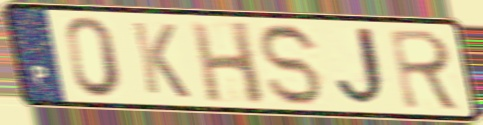0: (63, 15, 125, 101)
H: (187, 20, 270, 108)
J: (334, 25, 396, 110)
K: (128, 18, 194, 101)
R: (386, 26, 466, 114)
S: (257, 21, 327, 108)
